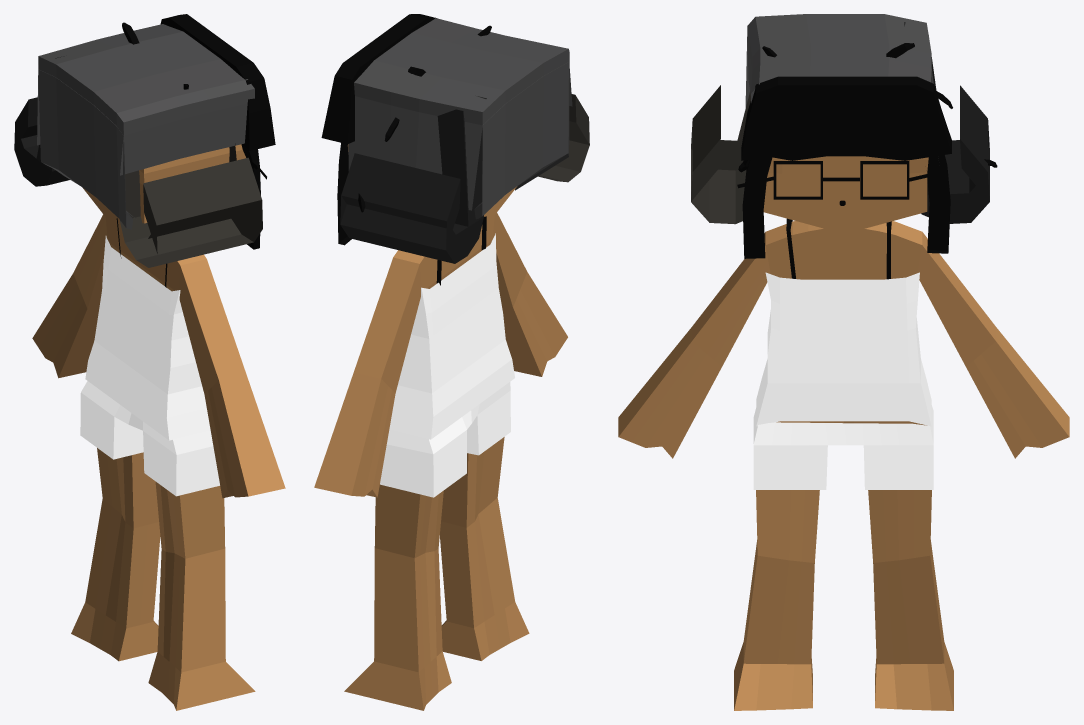
File: girl.glb
3 renders of one model, left to right at view 1: azimuth 30°, elevation 25°; view 2: azimuth 150°, elevation 25°; view 3: azimuth 270°, elevation 25°, orthographic. The views are drawn at different scales.
Parts seen in each view (by area): view 1: Cube.010; view 2: Cube.010; view 3: Cube.010.
Part boxes in pixels (bbox=[...]): Cube.010: bbox=[14, 14, 285, 710]; Cube.010: bbox=[314, 14, 589, 710]; Cube.010: bbox=[618, 14, 1069, 710].
Bounding box in the file's own units: 2.22 × 8.64 × 5.45.
